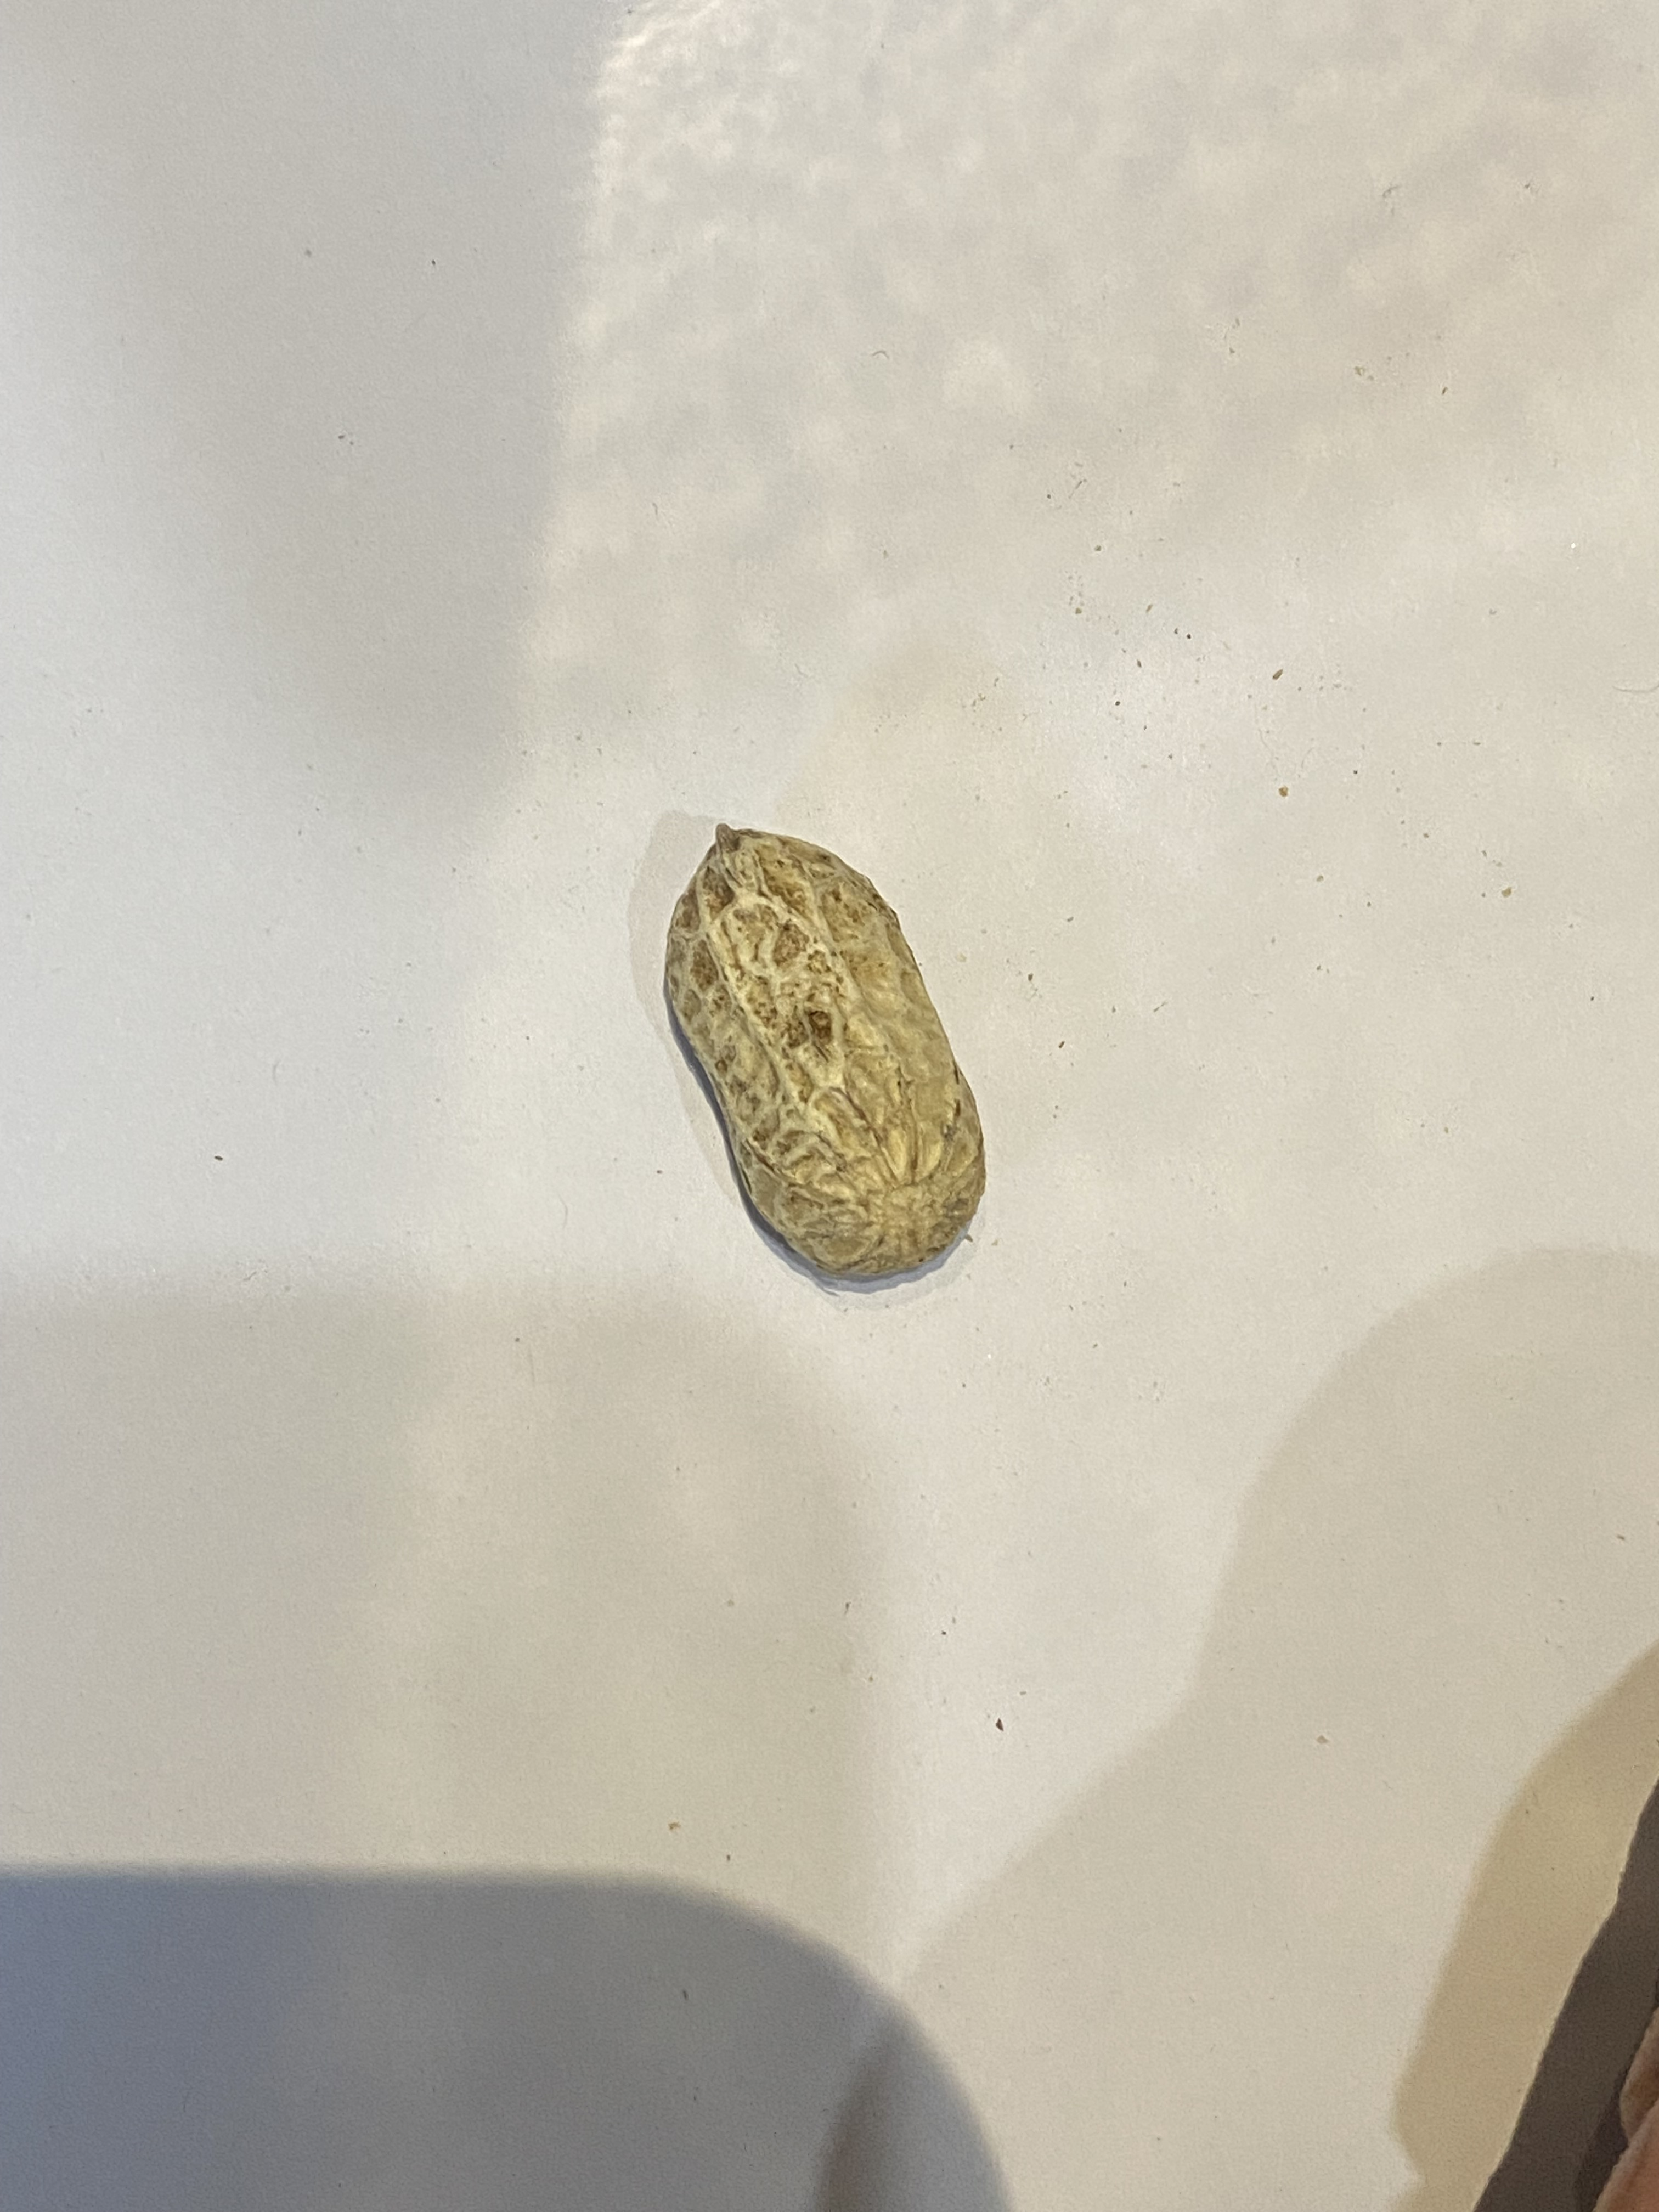kacang2: (657, 791, 1002, 1291)
